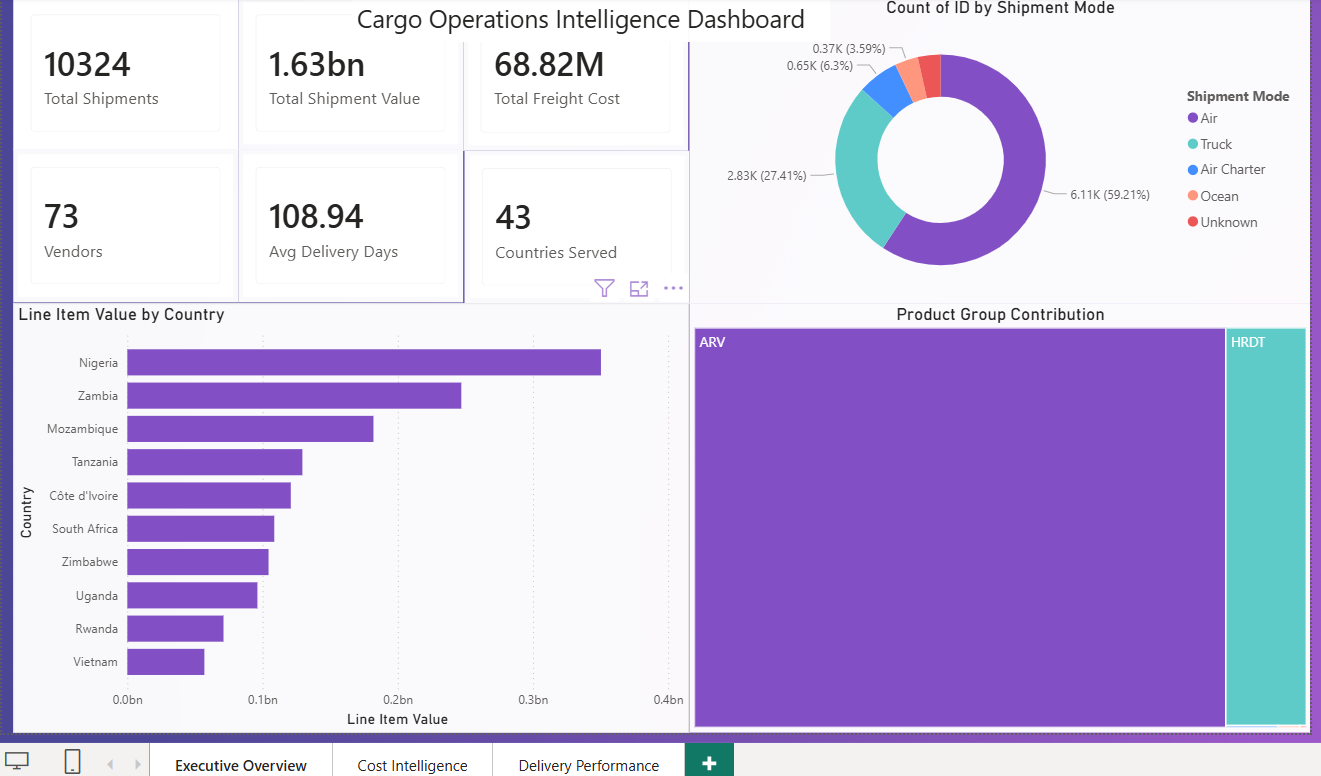

The dashboard page shown, as its layout file describes it:
{"tool":"powerbi","page":{"name":"Executive Overview","canvas":[1280,720],"ordinal":0},"visuals":[{"type":"cardVisual","fields":{"Data":["CountNonNull(cleaned_shipments.ID)"]},"box":[11.4,0,220.3,149.9],"z":0},{"type":"cardVisual","fields":{"Data":["Sum(cleaned_shipments.Freight Cost (USD))"]},"box":[451.3,0,220,150],"z":1000},{"type":"cardVisual","fields":{"Data":["Sum(cleaned_shipments.Line Item Value)"]},"box":[231,0,220.3,149.7],"z":2000},{"type":"cardVisual","fields":{"Data":["Count(cleaned_shipments.Country)"]},"box":[452,149.9,220.3,149.9],"z":3000},{"type":"cardVisual","fields":{"Data":["Count(cleaned_shipments.Vendor)"]},"box":[10.7,149.7,220.3,149.7],"z":4000},{"type":"cardVisual","fields":{"Data":["Avg(cleaned_shipments.Delivery Days)"]},"box":[231,149.7,220.3,149.7],"z":5000},{"type":"clusteredBarChart","fields":{"Category":["cleaned_shipments.Country"],"Y":["Sum(cleaned_shipments.Line Item Value)"]},"box":[11.4,299.8,660.9,420.2],"z":6000},{"type":"donutChart","fields":{"Category":["cleaned_shipments.Shipment Mode"],"Y":["CountNonNull(cleaned_shipments.ID)"]},"box":[672.3,0,608.7,299.8],"z":7000},{"type":"treemap","title":" Product Group Contribution","fields":{"Group":["cleaned_shipments.Product Group"],"Values":["Sum(cleaned_shipments.Line Item Value)"]},"box":[672.3,299.8,608.7,420.2],"z":8000},{"type":"textbox","box":[342,0,468,44],"z":8001}]}

Visuals, with their boxes on the page's 1280x720 design canvas (x1, y1, x2, y2). These are canvas units, not pixel positions in the 1321x776 screenshot, which may show the page scaled, cropped or inside an application window:
cardVisual - CountNonNull(cleaned_shipments.ID): <bbox>11, 0, 232, 150</bbox>
cardVisual - Sum(cleaned_shipments.Freight Cost (USD)): <bbox>451, 0, 671, 150</bbox>
cardVisual - Sum(cleaned_shipments.Line Item Value): <bbox>231, 0, 451, 150</bbox>
cardVisual - Count(cleaned_shipments.Country): <bbox>452, 150, 672, 300</bbox>
cardVisual - Count(cleaned_shipments.Vendor): <bbox>11, 150, 231, 299</bbox>
cardVisual - Avg(cleaned_shipments.Delivery Days): <bbox>231, 150, 451, 299</bbox>
clusteredBarChart - cleaned_shipments.Country x Sum(cleaned_shipments.Line Item Value): <bbox>11, 300, 672, 720</bbox>
donutChart - cleaned_shipments.Shipment Mode x CountNonNull(cleaned_shipments.ID): <bbox>672, 0, 1281, 300</bbox>
" Product Group Contribution" treemap: <bbox>672, 300, 1281, 720</bbox>
textbox: <bbox>342, 0, 810, 44</bbox>
